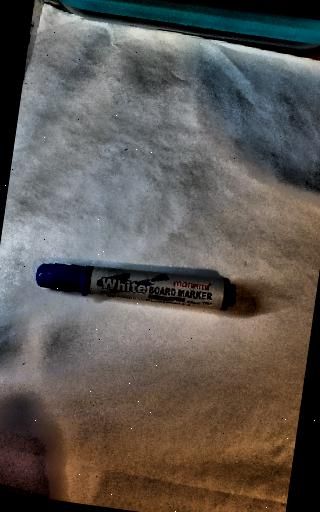marcador azul: (35, 263, 236, 310)
